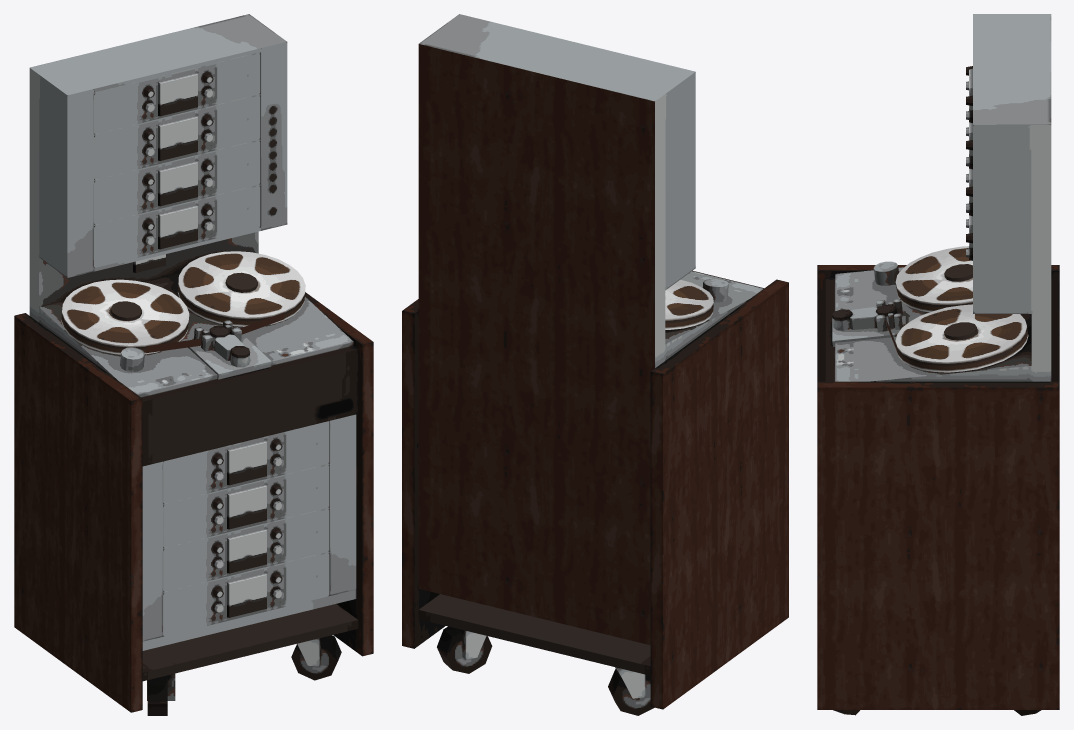
3 renders of one model, left to right at view 1: azimuth 30°, elevation 25°; view 2: azimuth 150°, elevation 25°; view 3: azimuth 270°, elevation 25°, orthographic. The views are drawn at different scales.
Visible parts, largest first — view 1: 3mM23_8track.mesh, 3mm23_reel02.mesh, 3mm23_reel01.mesh; view 2: 3mM23_8track.mesh, 3mm23_reel01.mesh; view 3: 3mM23_8track.mesh, 3mm23_reel02.mesh, 3mm23_reel01.mesh.
Boxes of the visible parts, left/top/right/bottom form: 3mM23_8track.mesh: left=14, top=14, right=373, bottom=715; 3mm23_reel02.mesh: left=177, top=251, right=305, bottom=326; 3mm23_reel01.mesh: left=61, top=279, right=189, bottom=354; 3mM23_8track.mesh: left=402, top=14, right=788, bottom=715; 3mm23_reel01.mesh: left=665, top=279, right=713, bottom=329; 3mM23_8track.mesh: left=817, top=14, right=1059, bottom=715; 3mm23_reel02.mesh: left=895, top=304, right=1028, bottom=372; 3mm23_reel01.mesh: left=895, top=246, right=972, bottom=312.
Size of the model in its own units: 26.13 by 59.98 by 21.82.
Materials: 2 (2 with a texture image).
